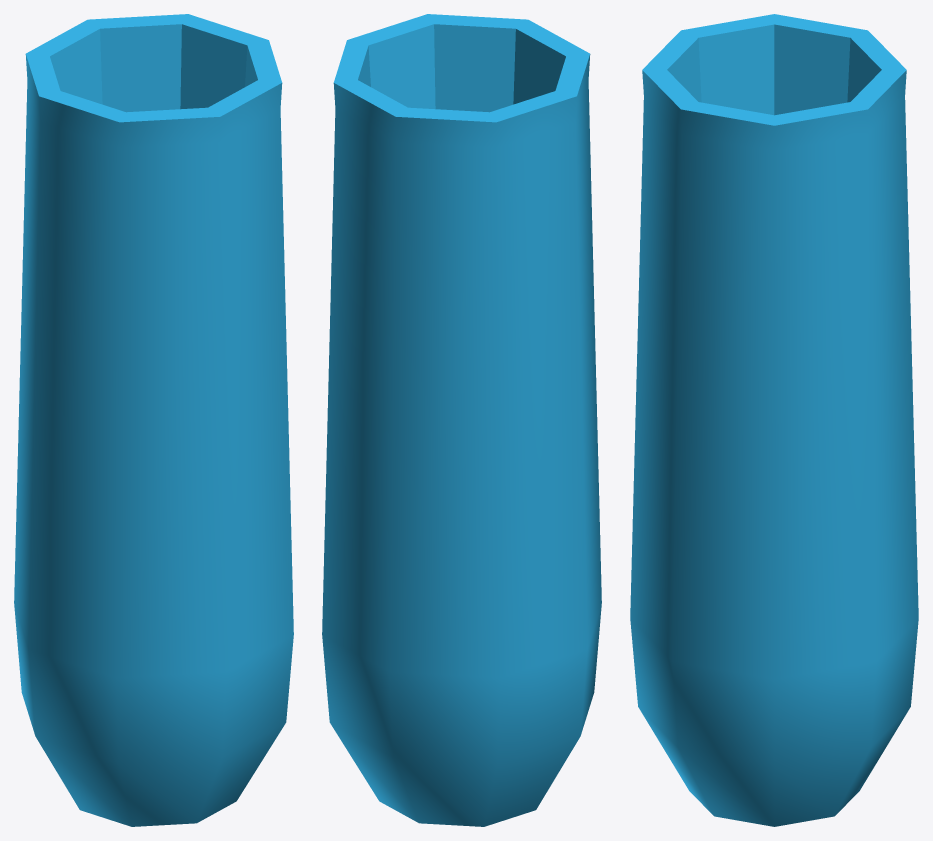
File: SM_glass_02.fbx
The picture shows the model from 3 angles, left to right: view 1: azimuth 30°, elevation 25°; view 2: azimuth 150°, elevation 25°; view 3: azimuth 270°, elevation 25°; orthographic projection.
Parts seen in each view (by area): view 1: glass_02; view 2: glass_02; view 3: glass_02.
Part boxes in pixels (<box>): glass_02: <box>14,14,293,826</box>; glass_02: <box>322,14,601,826</box>; glass_02: <box>630,14,918,826</box>.
Bounding box in the file's own units: 14.07 × 38.8 × 14.07.
